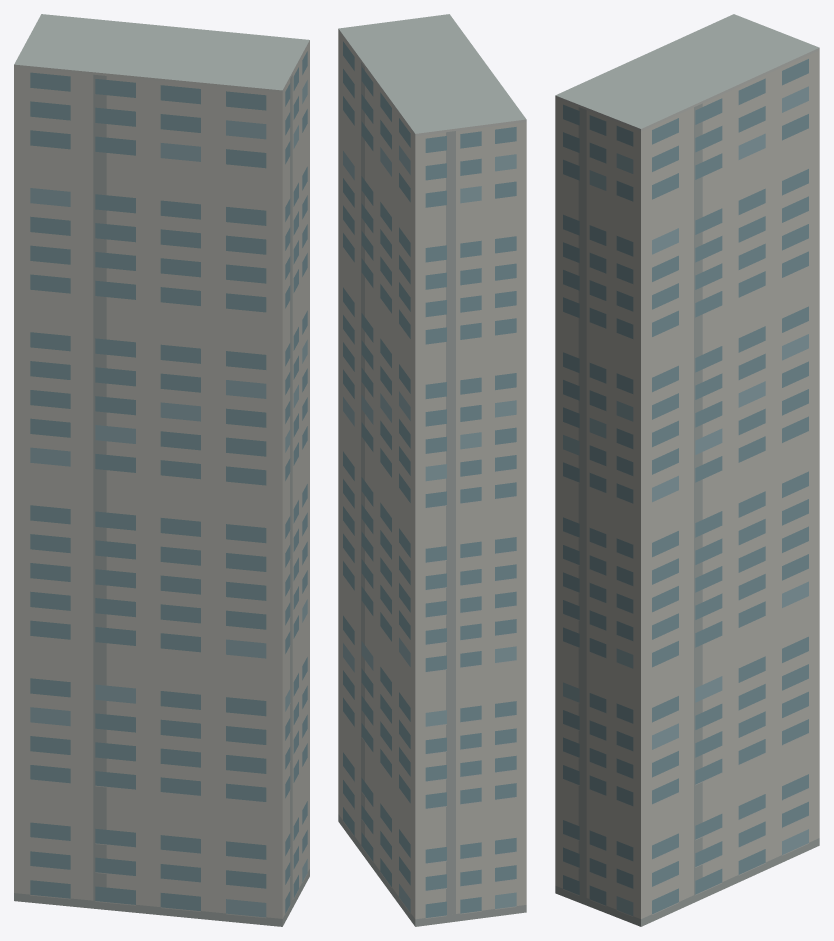
Rendered from residential-4b5b0935-5d7d-4ee4-a681-cae7e0d25c38.glb.
3 renders of one model, left to right at view 1: azimuth 30°, elevation 25°; view 2: azimuth 150°, elevation 25°; view 3: azimuth 270°, elevation 25°, orthographic. The views are drawn at different scales.
Parts seen in each view (by area): view 1: residential-4b5b0935-5d7d-4ee4-a681-cae7e0d25c38.tmp; view 2: residential-4b5b0935-5d7d-4ee4-a681-cae7e0d25c38.tmp; view 3: residential-4b5b0935-5d7d-4ee4-a681-cae7e0d25c38.tmp.
Part boxes in pixels (bbox=[...]): residential-4b5b0935-5d7d-4ee4-a681-cae7e0d25c38.tmp: bbox=[14, 14, 309, 926]; residential-4b5b0935-5d7d-4ee4-a681-cae7e0d25c38.tmp: bbox=[338, 14, 526, 926]; residential-4b5b0935-5d7d-4ee4-a681-cae7e0d25c38.tmp: bbox=[555, 14, 819, 926].
Size of the model in its own units: 25.67 by 83 by 24.94.
